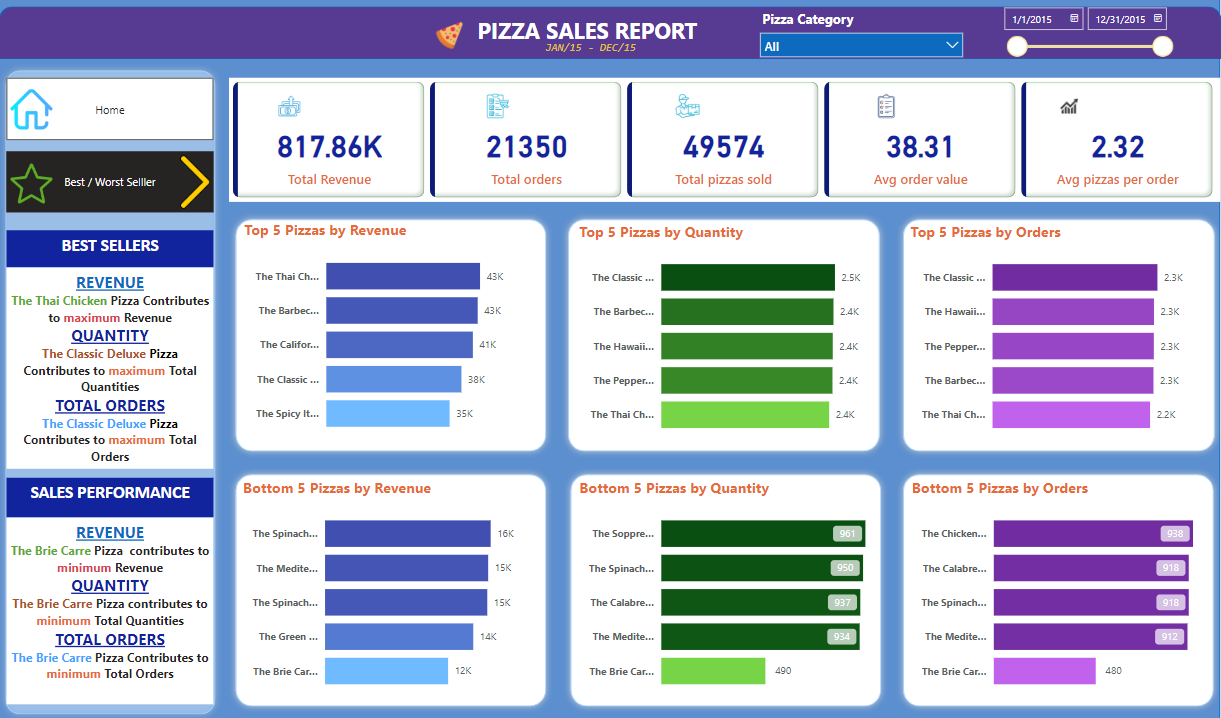

What the dashboard file says about the page in this screenshot:
{"tool":"powerbi","page":{"name":"Best / Worst Selller","canvas":[1500,900],"ordinal":1},"visuals":[{"type":"shape","box":[11.3,0,1488.7,900],"z":0},{"type":"shape","box":[11.4,78.6,271.4,800],"z":1000},{"type":"cardVisual","fields":{"Data":["pizza_sales.Total Revenue","pizza_sales.Total orders","pizza_sales.Total pizzas sold","pizza_sales.Avg order value","pizza_sales.Avg pizzas per order"]},"box":[292.9,95.7,1207.1,151.4],"z":2000},{"type":"shape","box":[11.4,8.6,1488.6,64.3],"z":3000},{"type":"textbox","box":[561.2,14.9,334.3,58.2],"z":4000},{"type":"textbox","box":[643.3,44.8,177.6,35.8],"z":5000},{"type":"image","box":[519.4,22.4,83.6,43.3],"z":6000},{"type":"shape","box":[292.5,259.7,394,298.5],"z":7000},{"type":"textbox","box":[20.9,282.1,252.2,44.8],"z":8000},{"type":"textbox","box":[20.9,326.9,252.2,244.8],"z":9000},{"type":"textbox","box":[20.9,583.6,252.2,47.8],"z":10000},{"type":"textbox","box":[20.9,631.3,252.2,226.9],"z":11000},{"type":"slicer","fields":{"Values":["pizza_sales.pizza_category"]},"box":[928.2,7,267.6,64.8],"z":12000},{"type":"slicer","fields":{"Values":["pizza_sales.order_date"]},"box":[1223.9,0,226.8,71.8],"z":13000},{"type":"shape","box":[697,259.7,395.5,298.5],"z":14000},{"type":"shape","box":[1104.5,259.7,395.5,298.5],"z":15000},{"type":"shape","box":[292.5,571.6,394,298.5],"z":16000},{"type":"shape","box":[700,571.6,394,298.5],"z":17000},{"type":"shape","box":[1106,571.6,394,298.5],"z":18000},{"type":"barChart","title":"Top 5 Pizzas by Revenue","fields":{"Category":["pizza_sales.pizza_name"],"Y":["pizza_sales.Total Revenue"]},"box":[306,270.1,368.7,274.6],"z":19000},{"type":"barChart","title":"Bottom 5 Pizzas by Revenue","fields":{"Category":["pizza_sales.pizza_name"],"Y":["pizza_sales.Total Revenue"]},"box":[304.5,583.6,368.7,274.6],"z":20000},{"type":"barChart","title":"Top 5 Pizzas by Quantity","fields":{"Category":["pizza_sales.pizza_name"],"Y":["pizza_sales.Total pizzas sold"]},"box":[713.4,271.6,368.7,274.6],"z":21000},{"type":"barChart","title":"Bottom 5 Pizzas by Quantity","fields":{"Category":["pizza_sales.pizza_name"],"Y":["pizza_sales.Total pizzas sold"]},"box":[713.4,583.6,368.7,274.6],"z":22000},{"type":"barChart","title":"Top 5 Pizzas by Orders","fields":{"Category":["pizza_sales.pizza_name"],"Y":["pizza_sales.Total orders"]},"box":[1117.9,271.6,368.7,274.6],"z":23000},{"type":"barChart","title":"Bottom 5 Pizzas by Orders","fields":{"Category":["pizza_sales.pizza_name"],"Y":["pizza_sales.Total orders"]},"box":[1119.4,583.6,368.7,274.6],"z":24000},{"type":"pageNavigator","box":[20.9,95.5,252.2,76.1],"z":25000},{"type":"pageNavigator","box":[20.9,185.1,252.2,74.6],"z":26000},{"type":"image","box":[167.2,185.1,167.2,74.6],"z":27000},{"type":"image","box":[20.9,95.5,61.2,76.1],"z":28000},{"type":"image","box":[20.9,191,61.2,68.7],"z":29000}]}

Visuals, with their boxes in screenshot pixels (x1, y1, x2, y2), scaled from the page's 1500x900 canvas onto the 1221x718 screenshot:
shape: [9,0,1220,717]
shape: [9,63,230,701]
cardVisual - pizza_sales.Total Revenue x pizza_sales.Total orders: [238,76,1220,197]
shape: [9,7,1220,58]
textbox: [457,12,729,58]
textbox: [524,36,668,64]
image: [423,18,491,52]
shape: [238,207,559,445]
textbox: [17,225,222,261]
textbox: [17,261,222,456]
textbox: [17,466,222,504]
textbox: [17,504,222,685]
slicer - pizza_sales.pizza_category: [756,6,973,57]
slicer - pizza_sales.order_date: [996,0,1181,57]
shape: [567,207,889,445]
shape: [899,207,1220,445]
shape: [238,456,559,694]
shape: [570,456,891,694]
shape: [900,456,1220,694]
"Top 5 Pizzas by Revenue" barChart: [249,215,549,435]
"Bottom 5 Pizzas by Revenue" barChart: [248,466,548,685]
"Top 5 Pizzas by Quantity" barChart: [581,217,881,436]
"Bottom 5 Pizzas by Quantity" barChart: [581,466,881,685]
"Top 5 Pizzas by Orders" barChart: [910,217,1210,436]
"Bottom 5 Pizzas by Orders" barChart: [911,466,1211,685]
pageNavigator: [17,76,222,137]
pageNavigator: [17,148,222,207]
image: [136,148,272,207]
image: [17,76,67,137]
image: [17,152,67,207]
